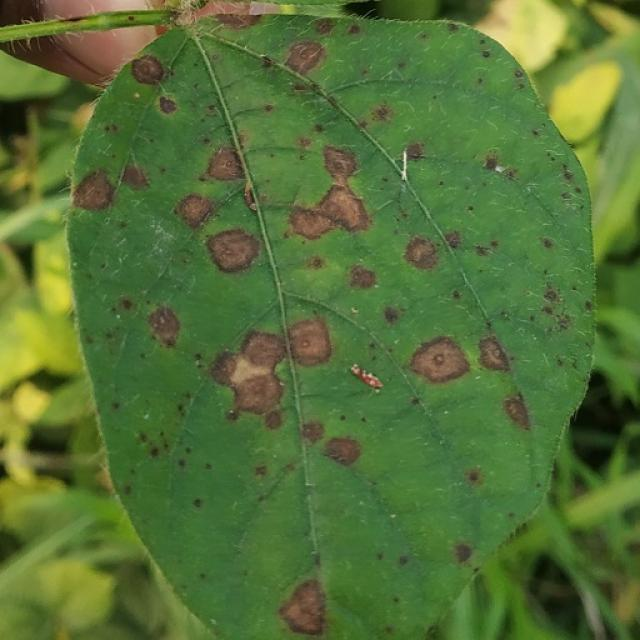Anthracnose: (209, 328, 294, 420), (286, 182, 372, 242), (402, 328, 474, 389), (278, 577, 329, 636), (403, 231, 468, 274), (204, 227, 262, 275), (286, 316, 333, 367), (237, 330, 287, 373), (70, 169, 115, 213), (537, 283, 577, 330), (203, 143, 248, 182), (283, 39, 328, 76), (146, 304, 183, 349), (321, 143, 361, 181), (175, 193, 215, 230), (476, 334, 512, 373), (323, 435, 362, 468), (130, 53, 166, 85), (209, 350, 239, 388), (502, 394, 531, 432), (120, 163, 151, 190), (348, 264, 377, 290), (482, 151, 511, 176), (368, 103, 395, 124), (157, 95, 179, 115), (542, 283, 562, 305), (403, 141, 425, 161), (382, 305, 401, 325), (305, 255, 327, 271), (466, 468, 483, 485), (118, 297, 135, 311)
Blackgram: (68, 16, 594, 639)
